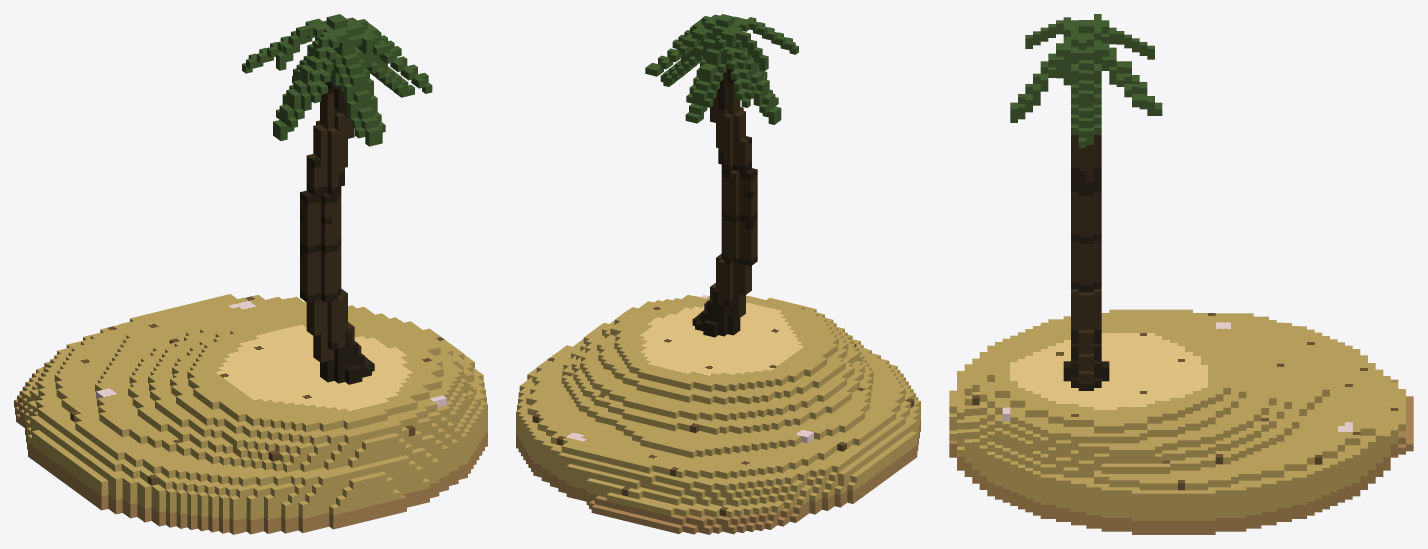
Rendered from Modell_Insel1.dae.
The picture shows the model from 3 angles, left to right: view 1: azimuth 30°, elevation 25°; view 2: azimuth 150°, elevation 25°; view 3: azimuth 270°, elevation 25°; orthographic projection. The views are drawn at different scales.
Visible parts, largest first — view 1: modell_insel1.island1; view 2: modell_insel1.island1; view 3: modell_insel1.island1.
Boxes of the visible parts, x1,y1,x2,y2 form: modell_insel1.island1: (14, 14, 487, 534); modell_insel1.island1: (516, 14, 920, 534); modell_insel1.island1: (949, 14, 1413, 534).
Bounding box in the file's own units: 5.8 × 6.1 × 6.3.
Materials: 1 (1 with a texture image).
